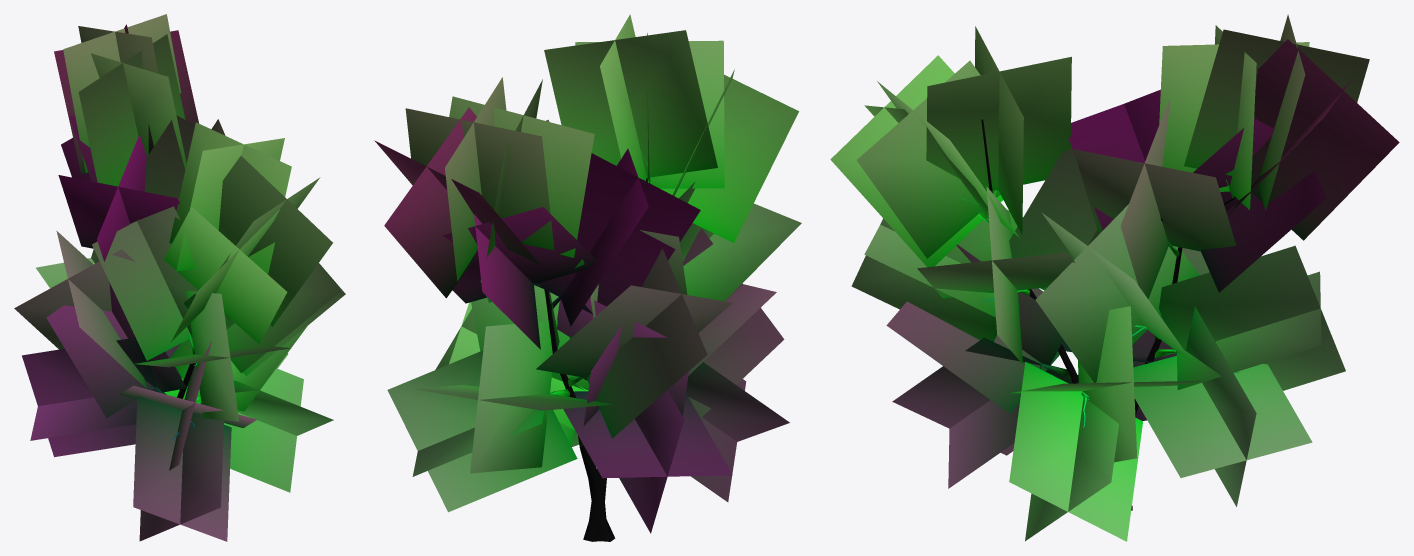
Rendered from M_P1_Tree_15.fbx.
3 renders of one model, left to right at view 1: azimuth 30°, elevation 25°; view 2: azimuth 150°, elevation 25°; view 3: azimuth 270°, elevation 25°, orthographic. The views are drawn at different scales.
Parts seen in each view (by area): view 1: M_Tree_1_15; view 2: M_Tree_1_15; view 3: M_Tree_1_15.
Boxes of the visible parts, left/top/right/bottom form: M_Tree_1_15: left=14, top=14, right=345, bottom=541; M_Tree_1_15: left=374, top=14, right=801, bottom=541; M_Tree_1_15: left=830, top=14, right=1399, bottom=541.
Size of the model in its own units: 652 by 993 by 1026.
